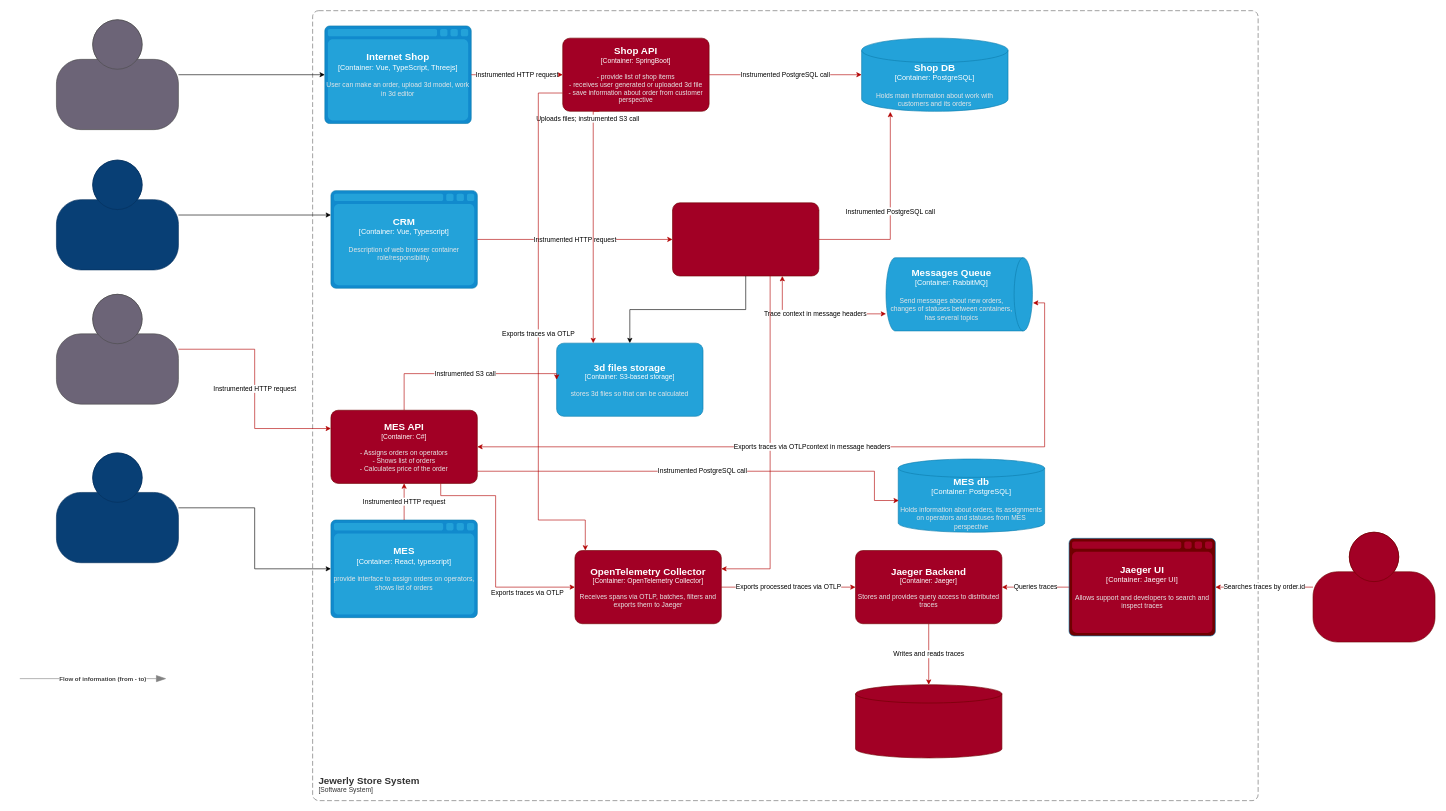
Some shapes in this 1446 by 811 pixel diagram are drawn without their labels. Each missing label, with the centre of its shape:
"API user [Person] Description of external person." goes at pixel 117 349.
"CRM API [Container: SpringBoot] Description of container role/responsibility." goes at pixel 745 239.
"Customer [Person] Description of external person." goes at pixel 117 74.
"Operator [Person] Takes order in work, manufactures jewerly" goes at pixel 117 507.
"Seller [Person] Operates with order, confirms manufacturing for the user" goes at pixel 117 215.
"Support [Person] Trace lookup" goes at pixel 1373 587.
"Trace Storage [Container: OpenSearch] Persistent indexed storage for traces" goes at pixel 928 721.
